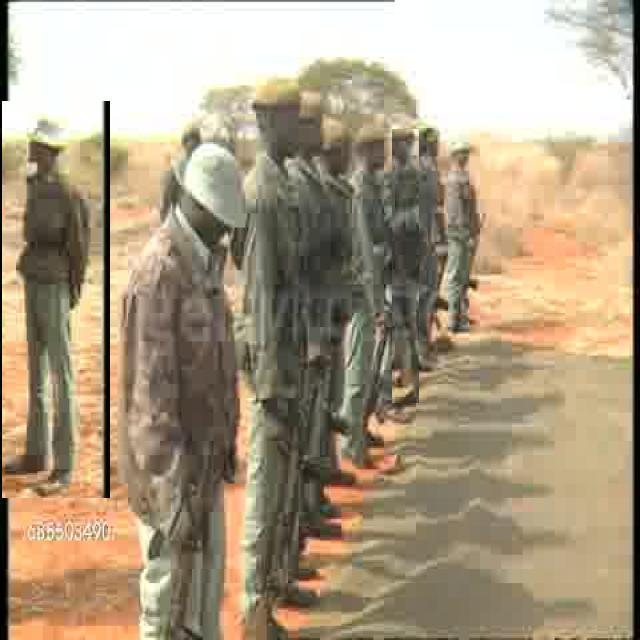poacher: (112, 132, 255, 622), (2, 101, 110, 498), (242, 86, 302, 540), (300, 100, 332, 440), (353, 132, 384, 462), (446, 141, 490, 327), (392, 130, 419, 403)
